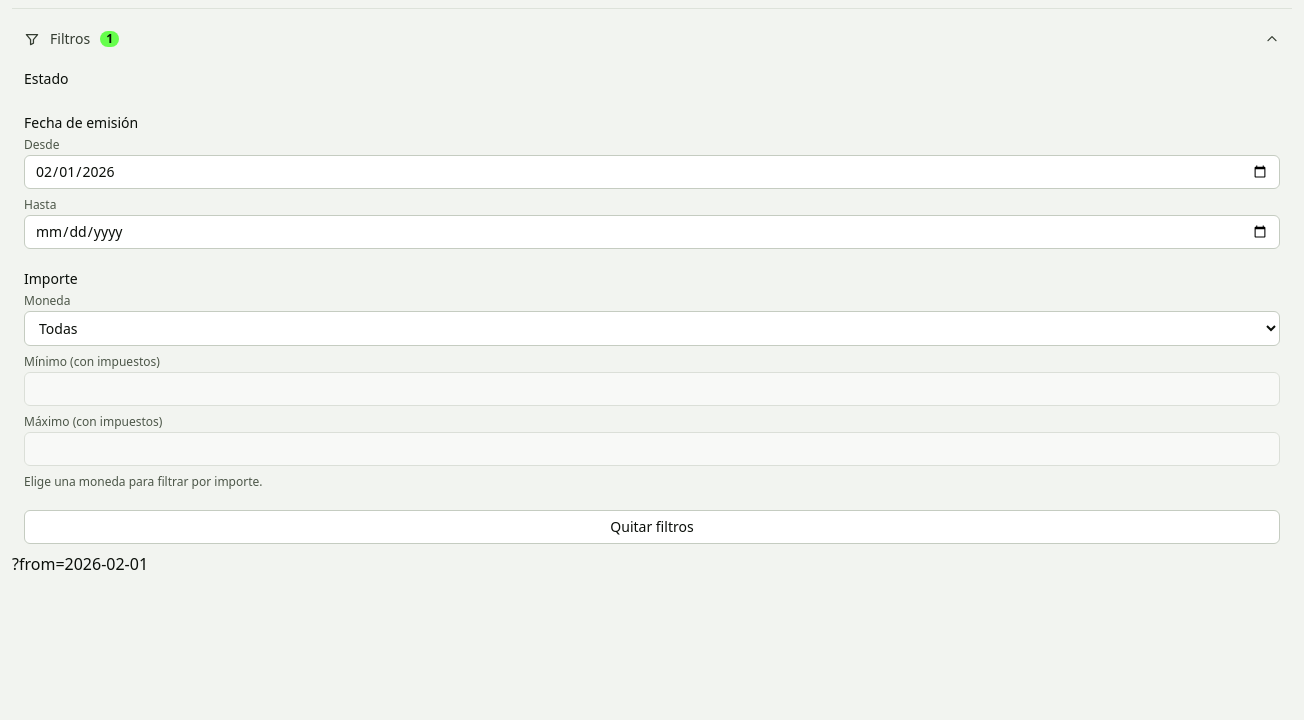
Test case: InvoiceFilterPanel › no aplica una fecha final anterior a la inicial y explica el motivo
In the date field labelled "Hasta": x=652, y=232 x1=24 y1=215 x2=1280 y2=249, type "2026-01-01"
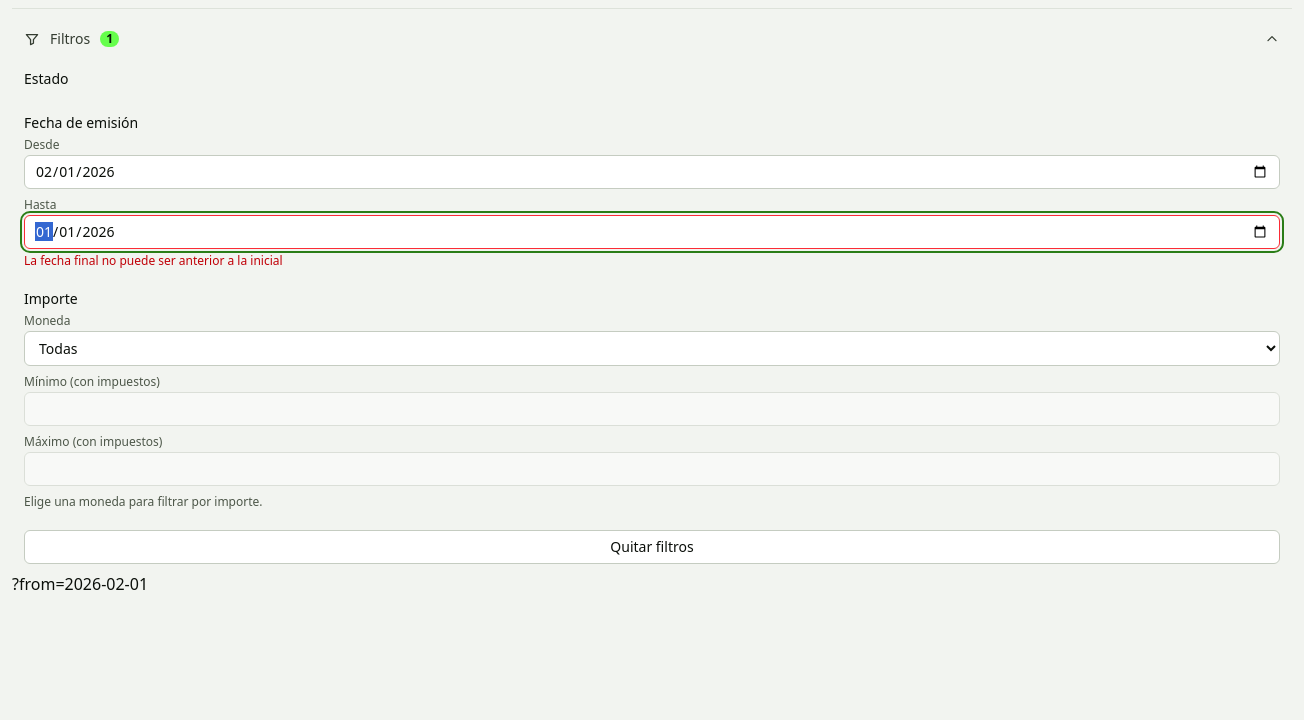
Expected: the text "La fecha final no puede ser anterior a la inicial" is shown, x1=24 y1=252 x2=283 y2=269
